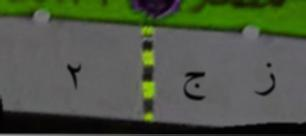2: (61, 59, 87, 92)
jeem: (179, 65, 210, 109)
zay: (248, 56, 279, 98)
